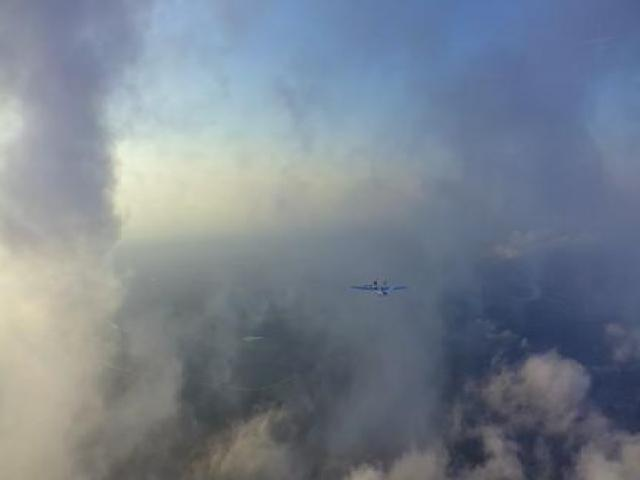uav: (347, 276, 410, 300)
